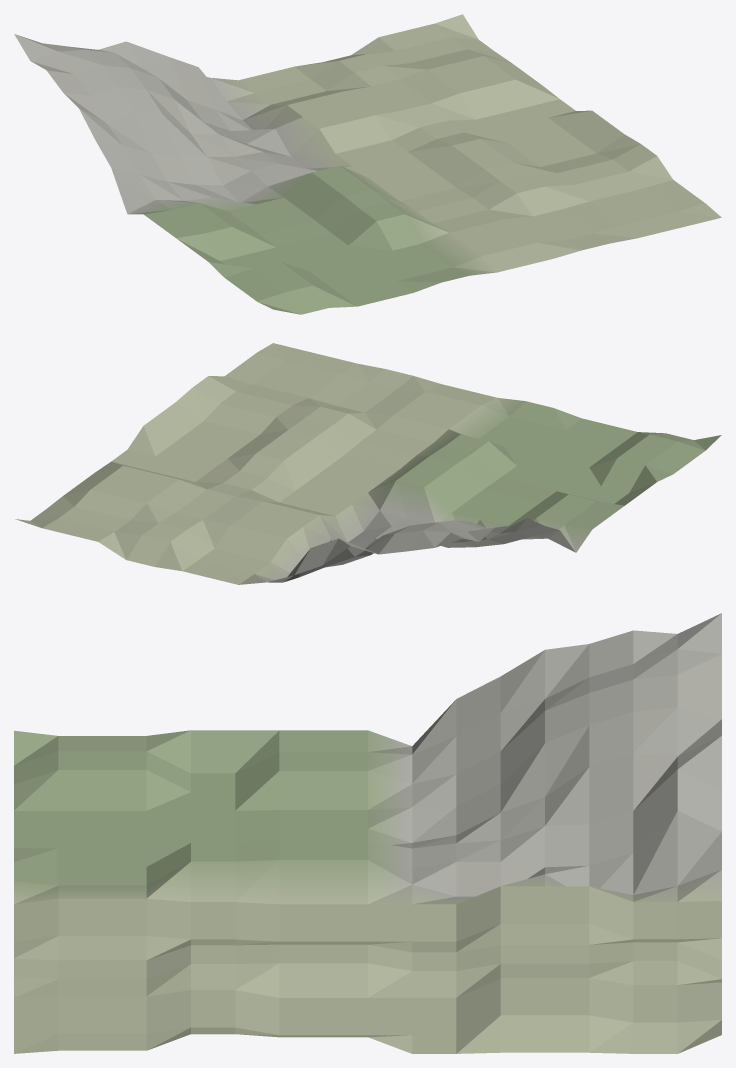
3 views of the same model, one above another, from view 1: azimuth 30°, elevation 25°; view 2: azimuth 150°, elevation 25°; view 3: azimuth 270°, elevation 25° (orthographic). The views are drawn at different scales.
Size of the model in its own units: 32 by 7.77 by 32.
